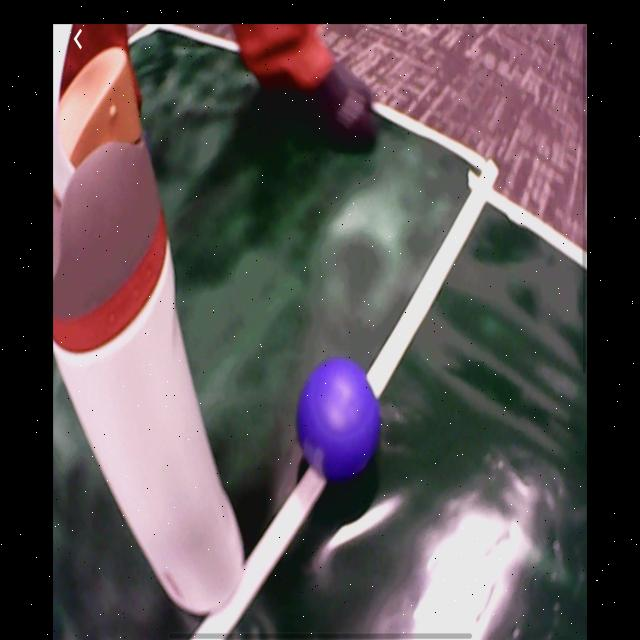ball: (298, 360, 381, 482)
